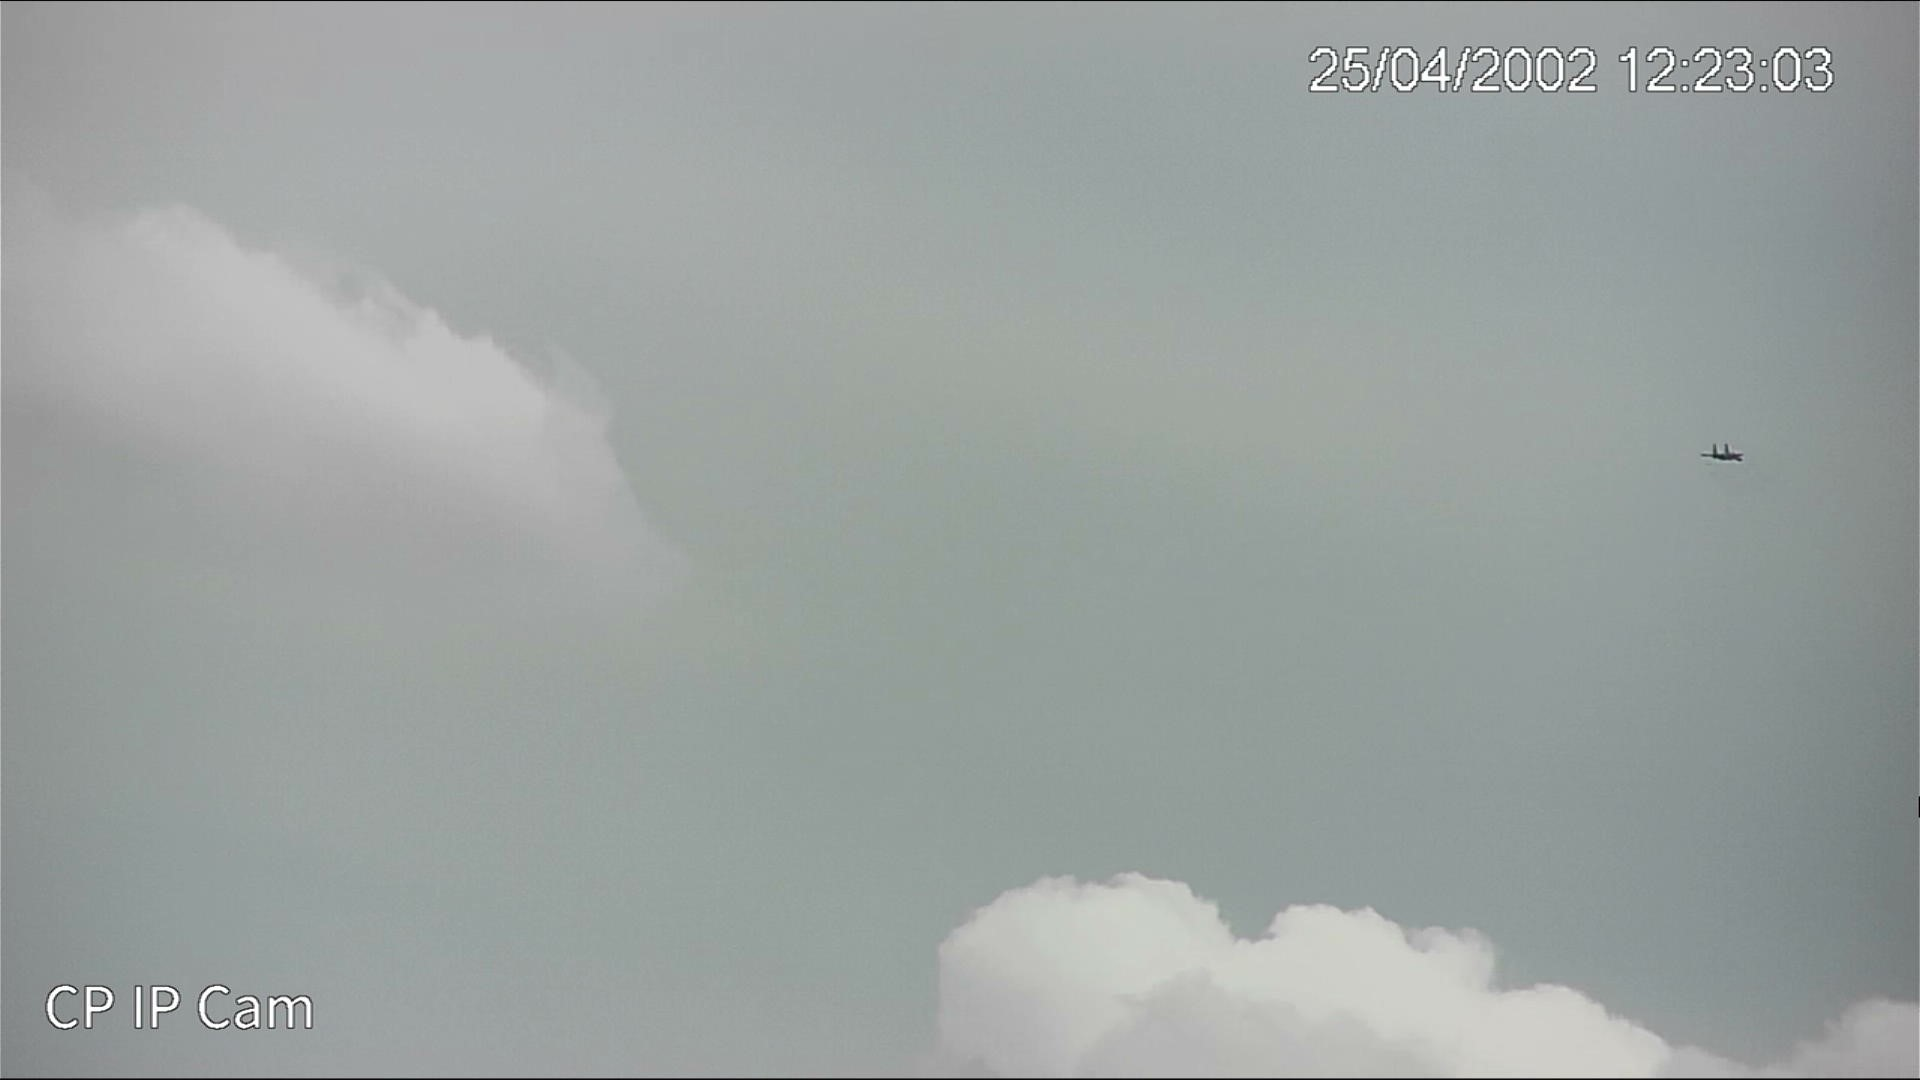SU_30: (1700, 444, 1749, 468)
